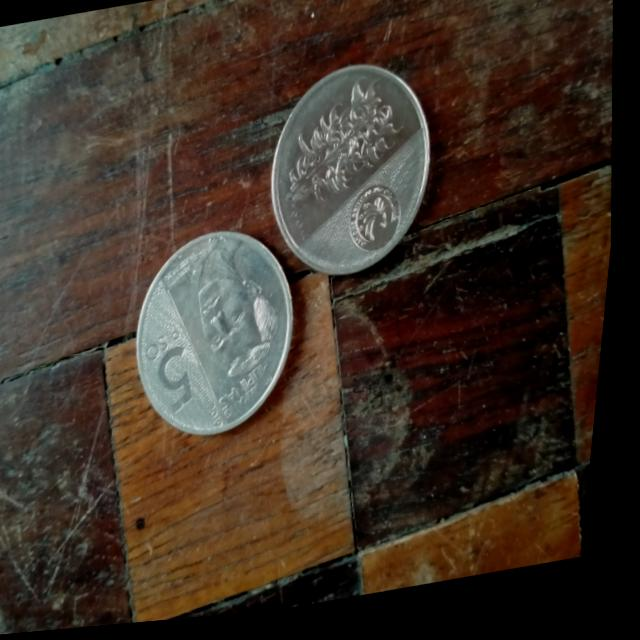5_New_Back: (270, 78, 424, 233)
5_New_Front: (140, 319, 215, 440)
